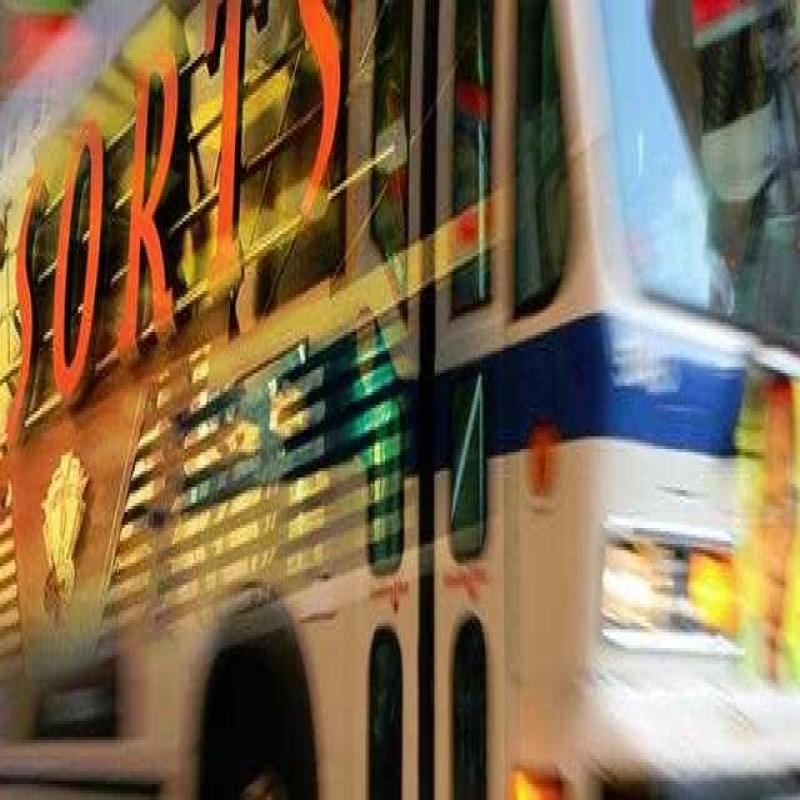bus: (4, 9, 800, 800)
